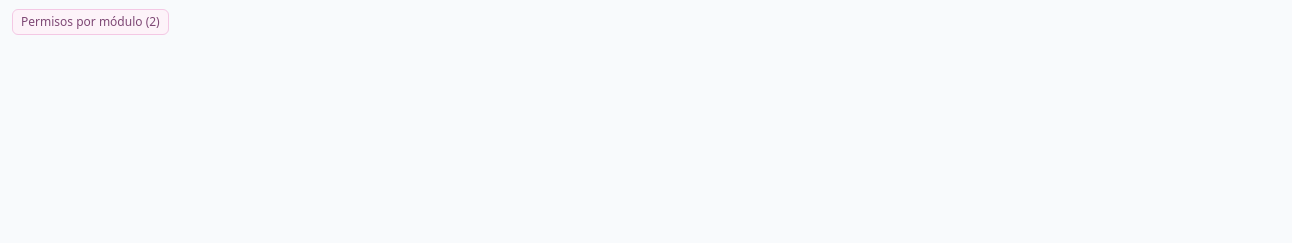
it: PermissionsPanel (permisos por módulo) › 'Ninguno' desmarca todo el módulo
Click the button "Permisos por módulo (2)" at (90, 22), box [12,9,169,35]
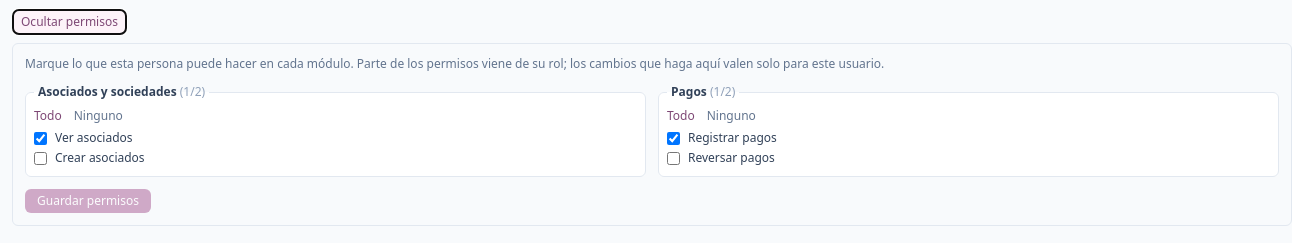
Click the 2nd button "Ninguno" at (731, 116), box [707,108,756,124]
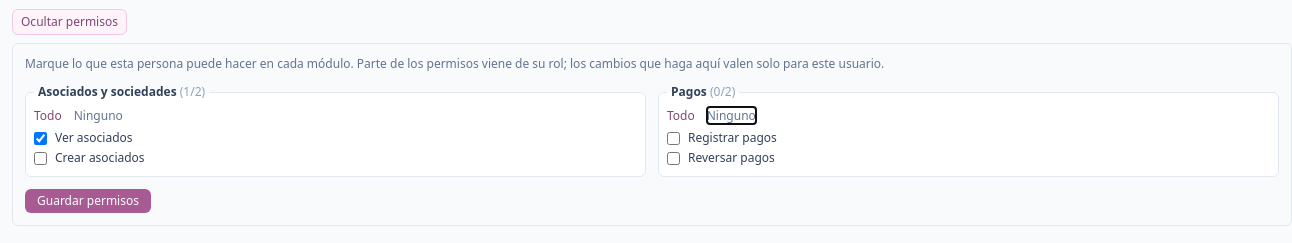
expect the checkbox labelled "Registrar pagos" is not checked: met, box [667,132,680,145]
